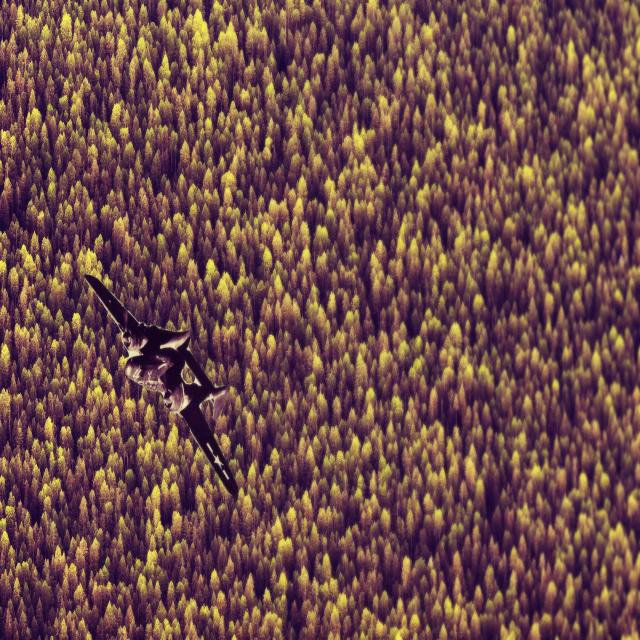airplane: (83, 272, 239, 498)
